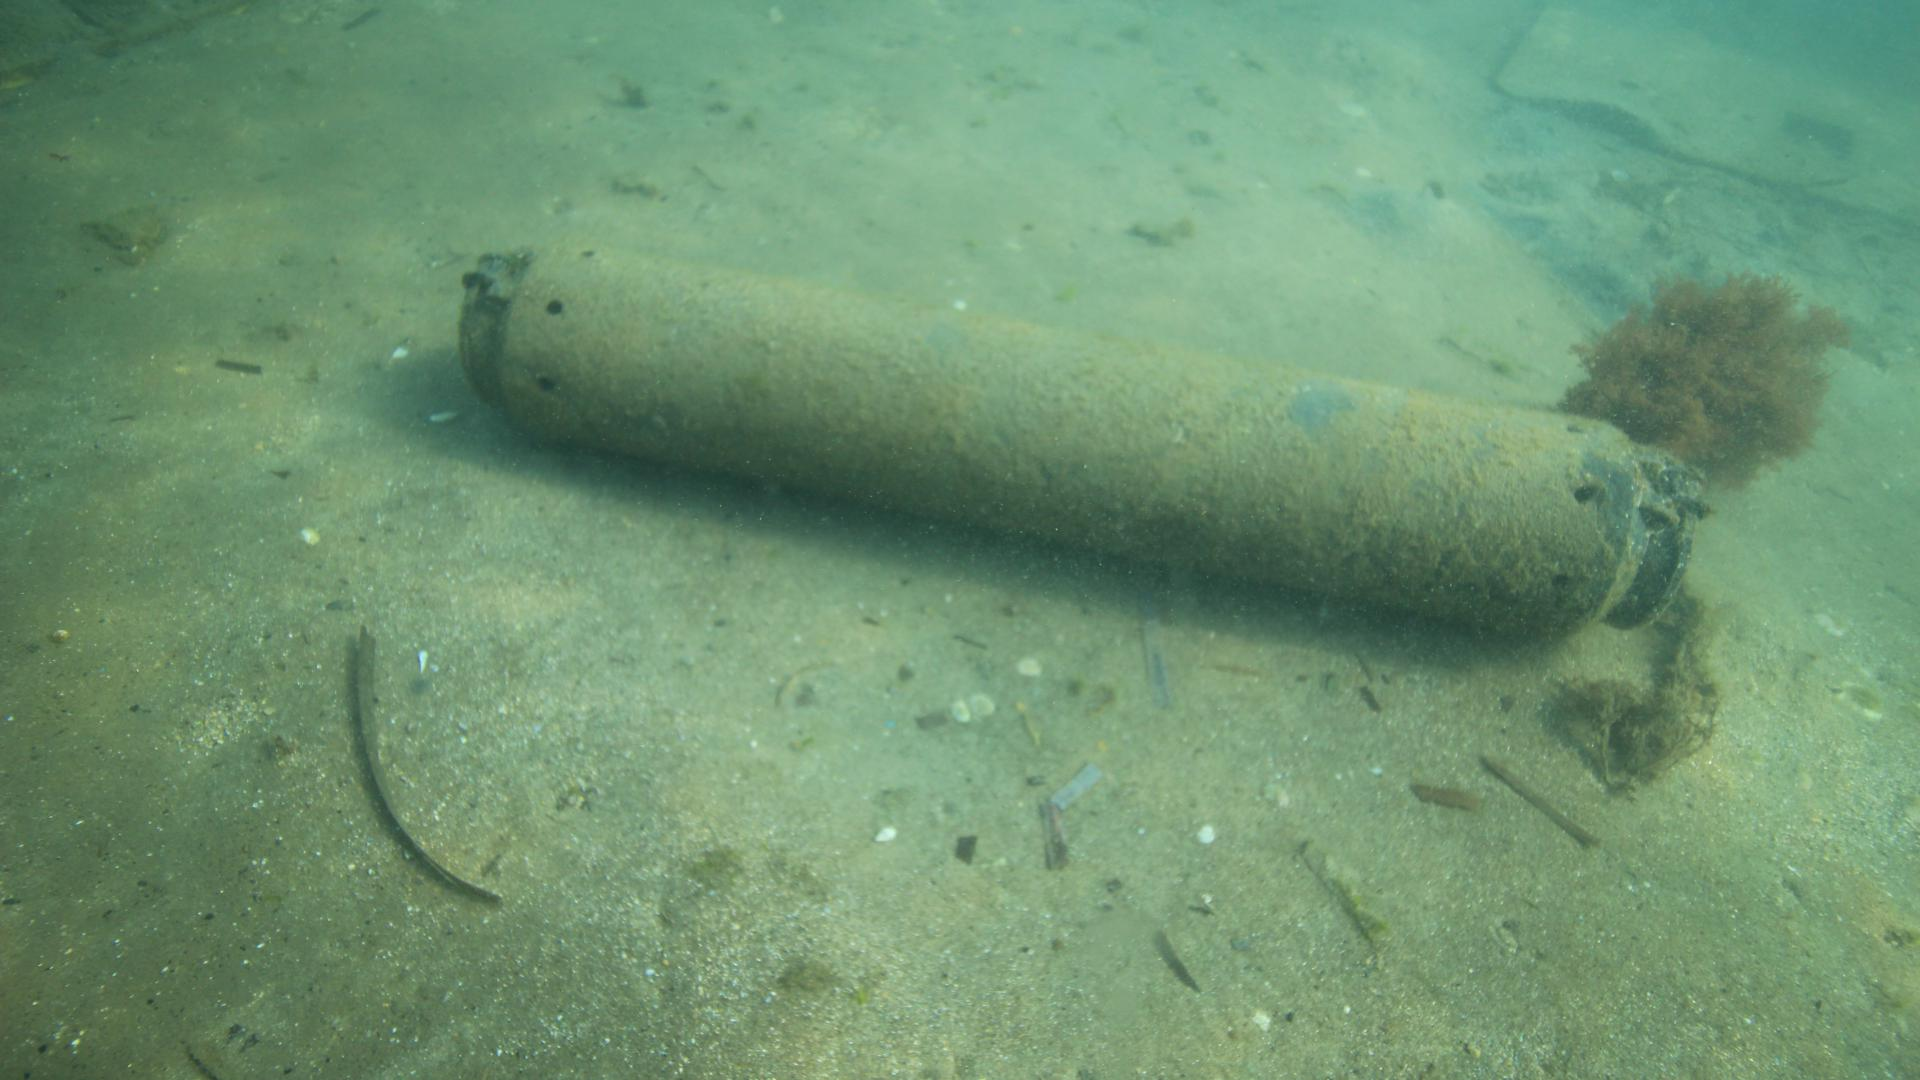eel fish trap: (458, 237, 1698, 642)
